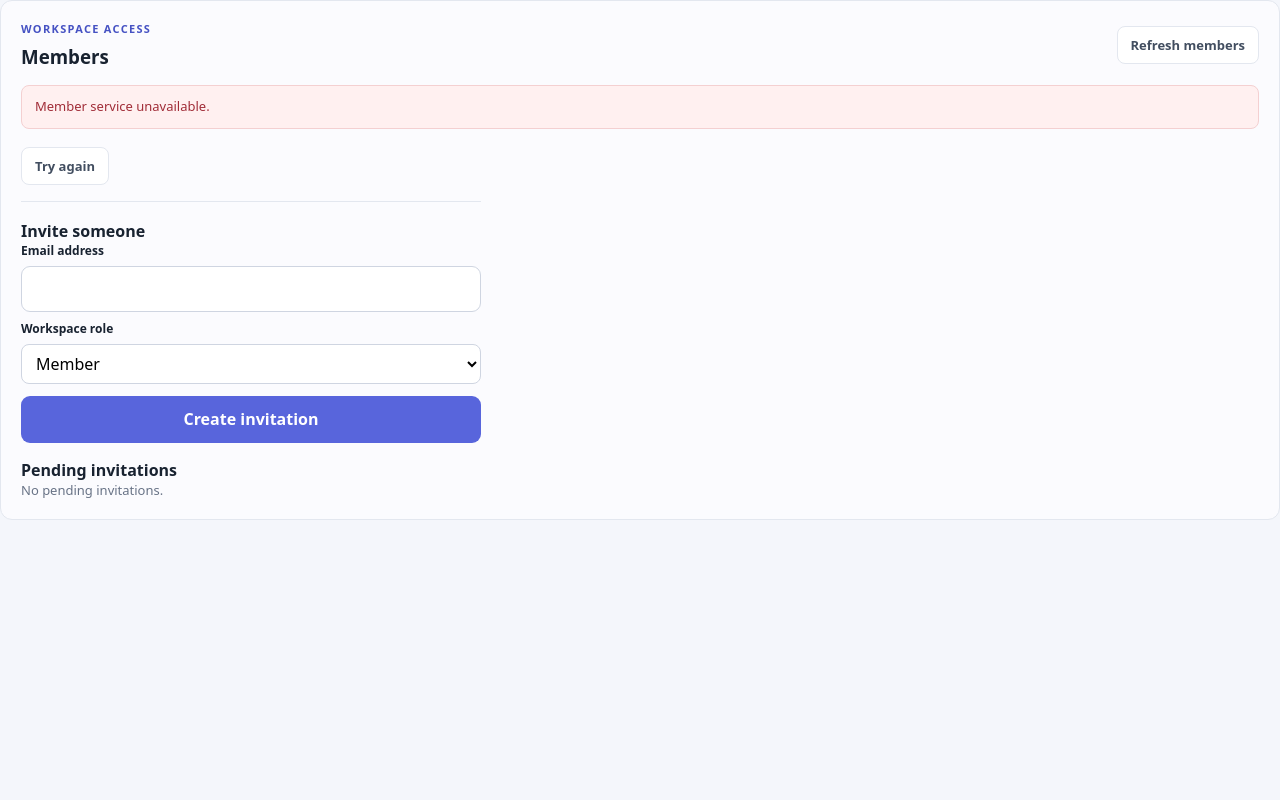
Scenario: workspace member management › shows load errors and provides a retry action
Check: the message reads "Member service unavailable.", box [35,97,210,115]
Click the button "Try again": (65, 166) [21,146,109,184]
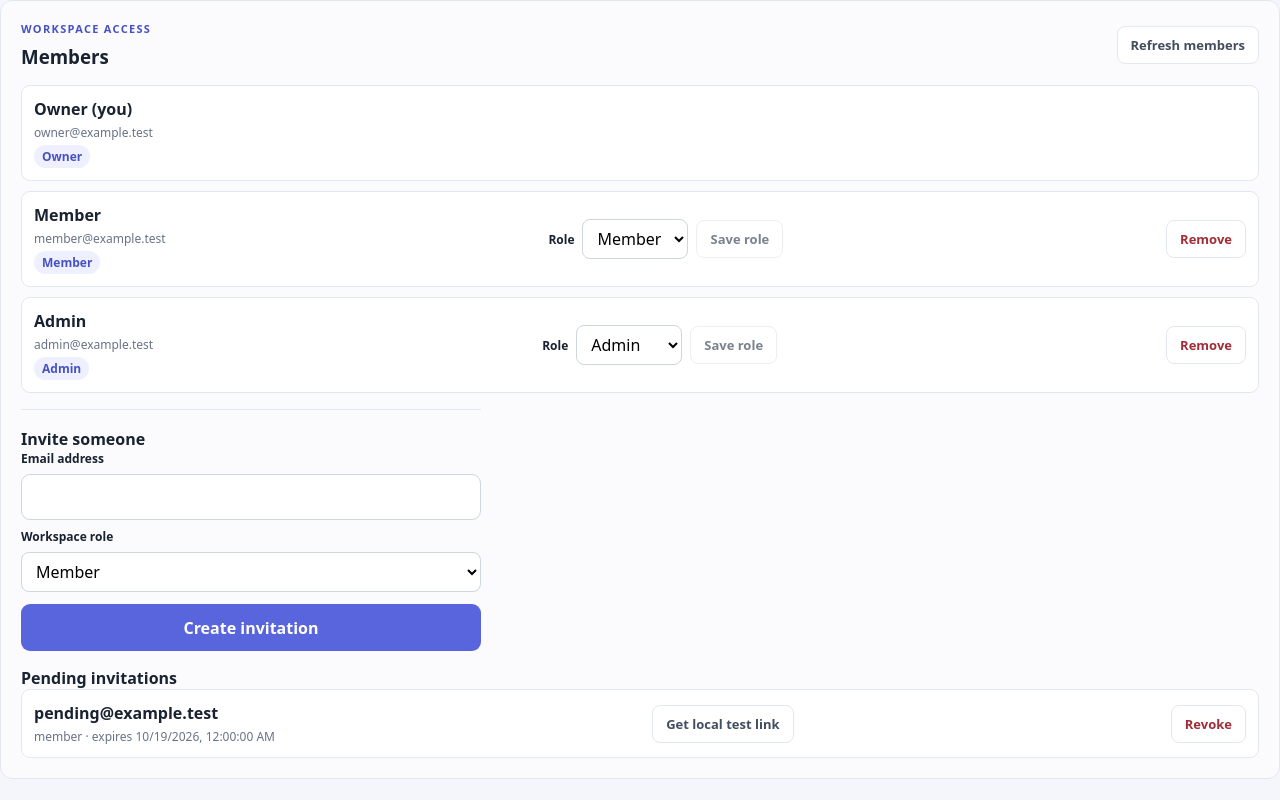
Check: the text "member@example.test" is shown, box [34,230,166,247]
